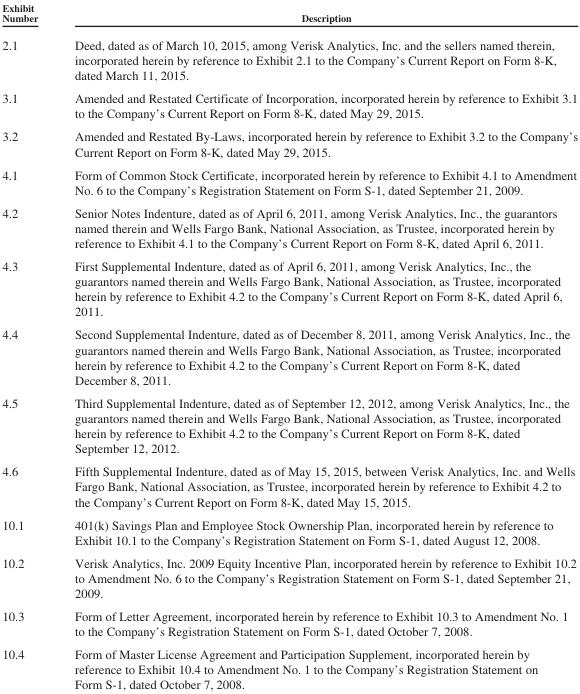table: (1, 1, 577, 691)
table column: (55, 1, 577, 691), (1, 1, 55, 691)
table column header: (1, 1, 577, 30)
table row: (1, 322, 577, 391), (1, 254, 577, 322), (1, 391, 577, 459), (1, 30, 577, 86), (1, 200, 577, 254), (1, 550, 577, 604), (1, 459, 577, 512), (1, 642, 577, 691), (1, 86, 577, 124), (1, 124, 577, 162), (1, 162, 577, 200), (1, 512, 577, 550), (1, 604, 577, 642), (1, 1, 577, 30)
